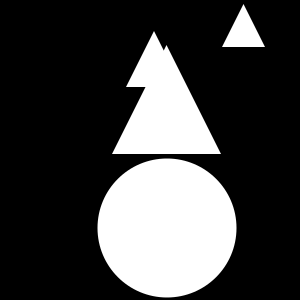rectangle: (97, 158, 236, 298)
triangle: (112, 45, 221, 154), (126, 31, 182, 87), (222, 4, 265, 47)
